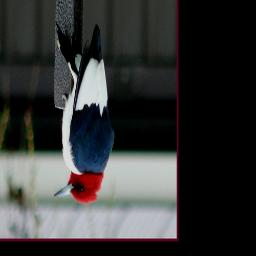Woodpecker: (53, 17, 116, 210)
